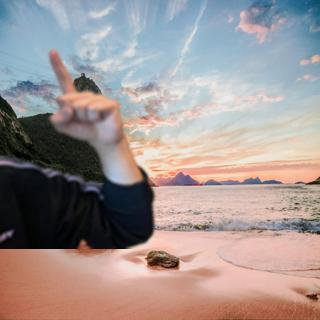IRRITATED: (41, 46, 128, 147)
